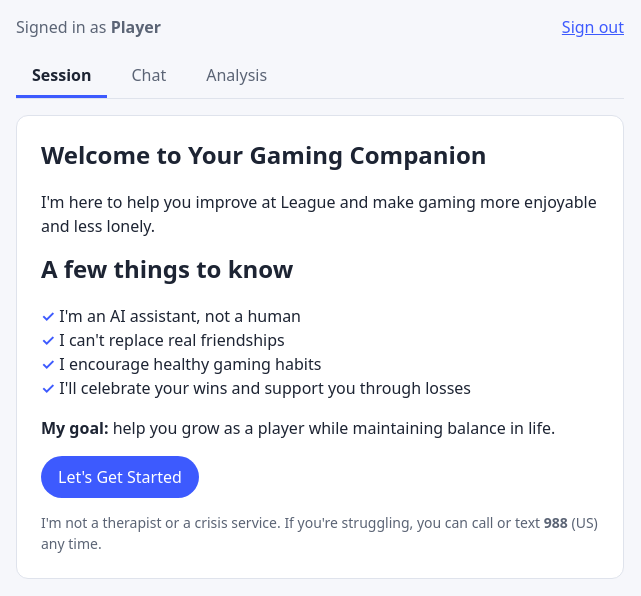
App auth gate › switches between the session and chat tabs
This screenshot has width=641, height=596.
Expected: the text "Player" is shown, [111, 16, 161, 38]
Expected: the heading "Chat with your companion" is not shown
Click the button "Chat". click: (149, 76)
box: [116, 55, 182, 98]
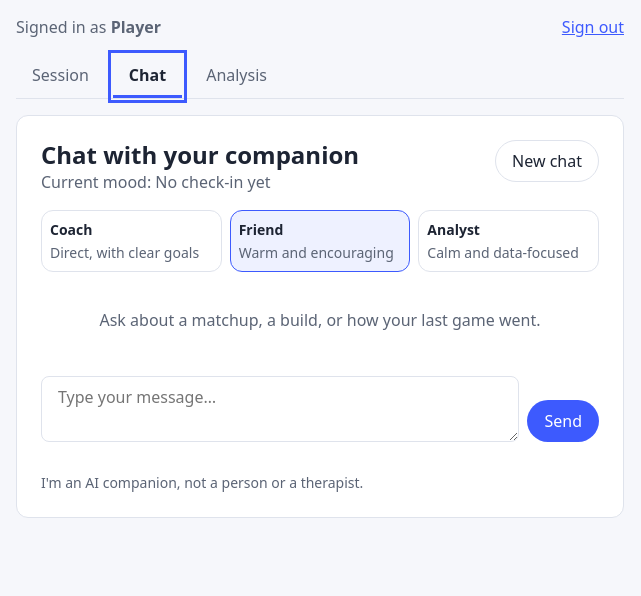
Result: the heading "Chat with your companion" is shown at [41, 140, 359, 170]
